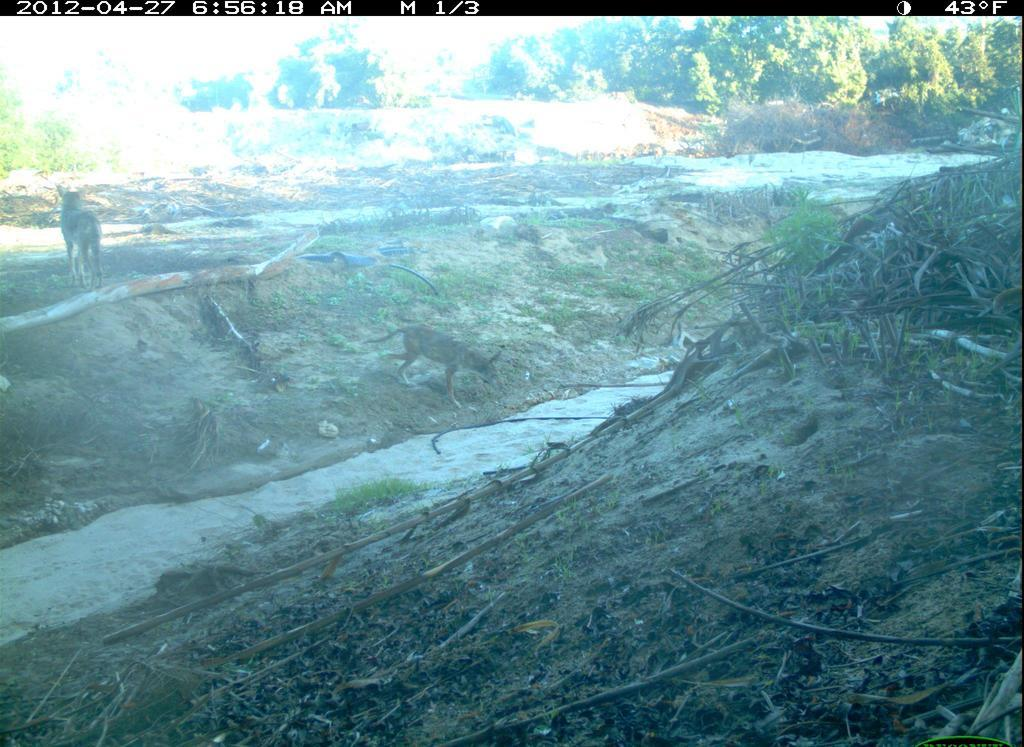coyote: (358, 314, 514, 425), (41, 176, 136, 304)
